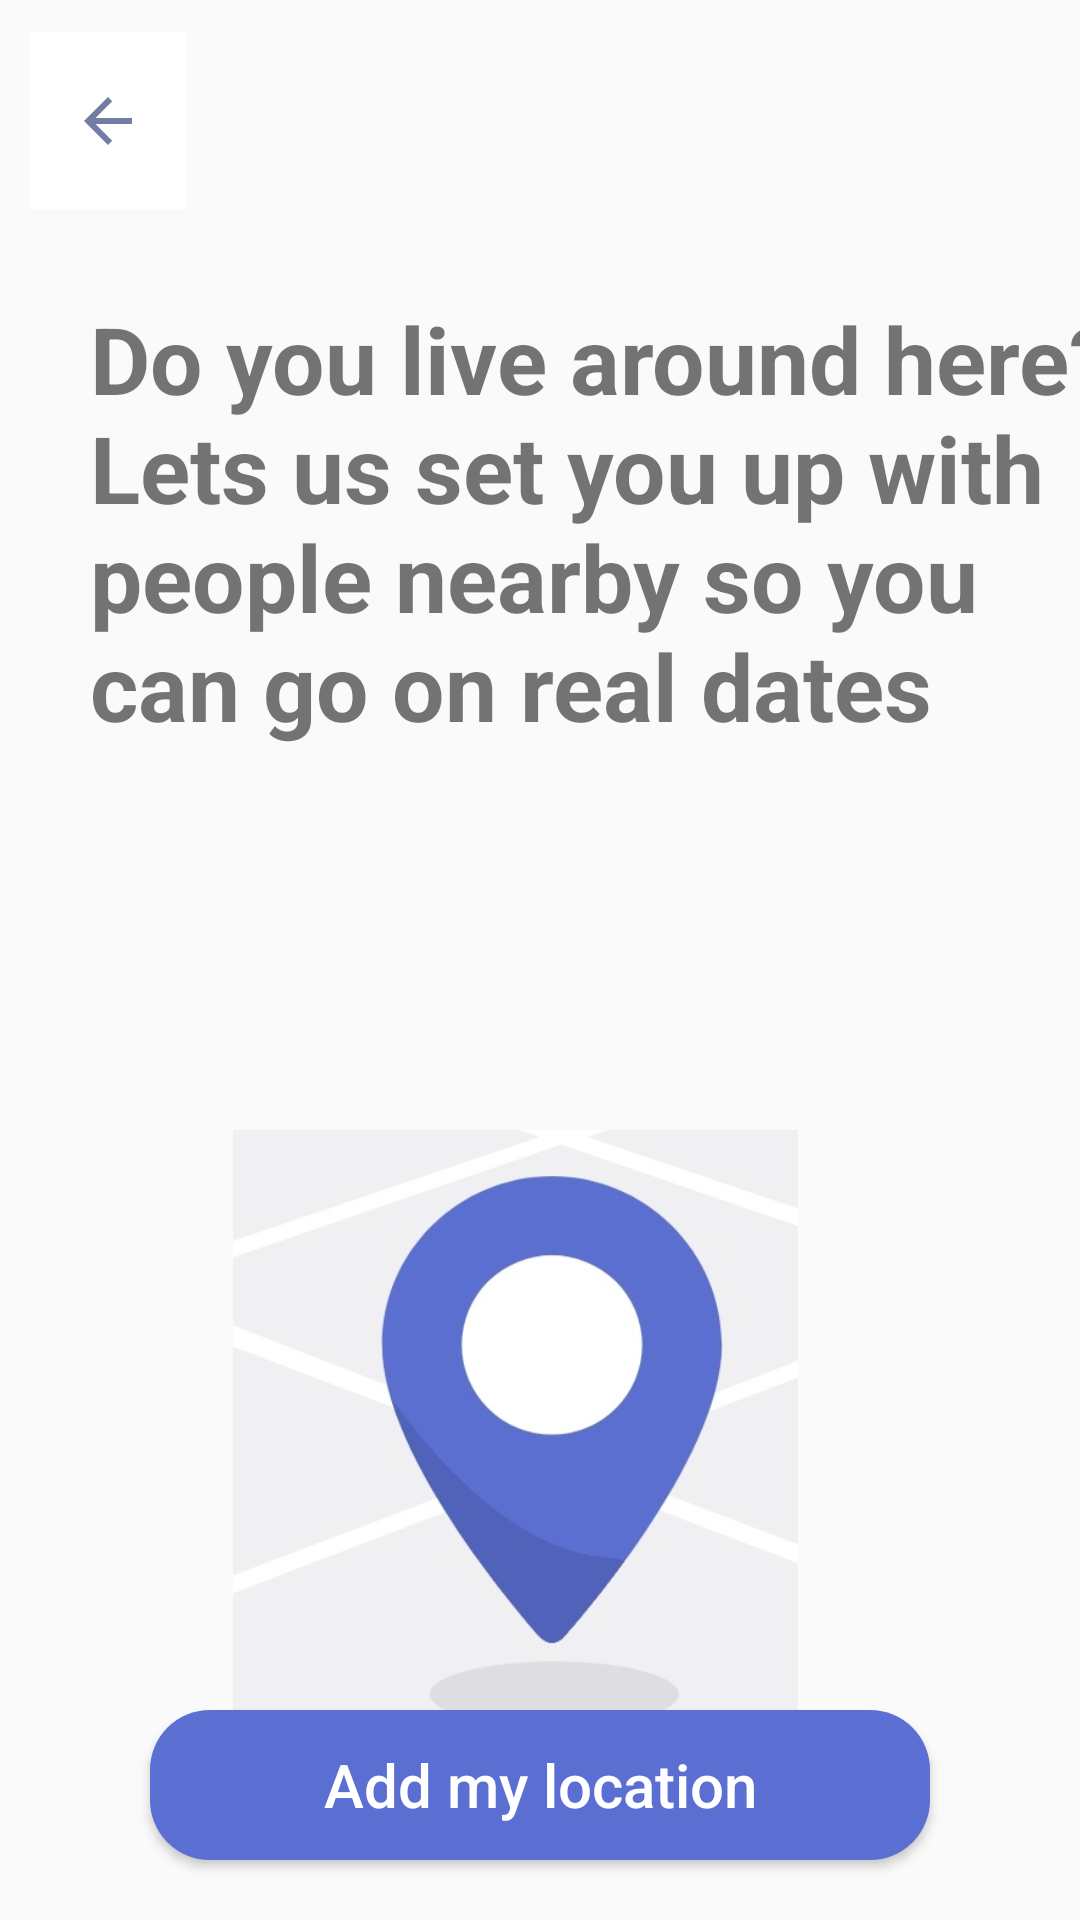

Icons on this 1080px×1920px Android screen, each with the point to tap as (x=x, y=y):
arrow back: (x=108, y=121)
